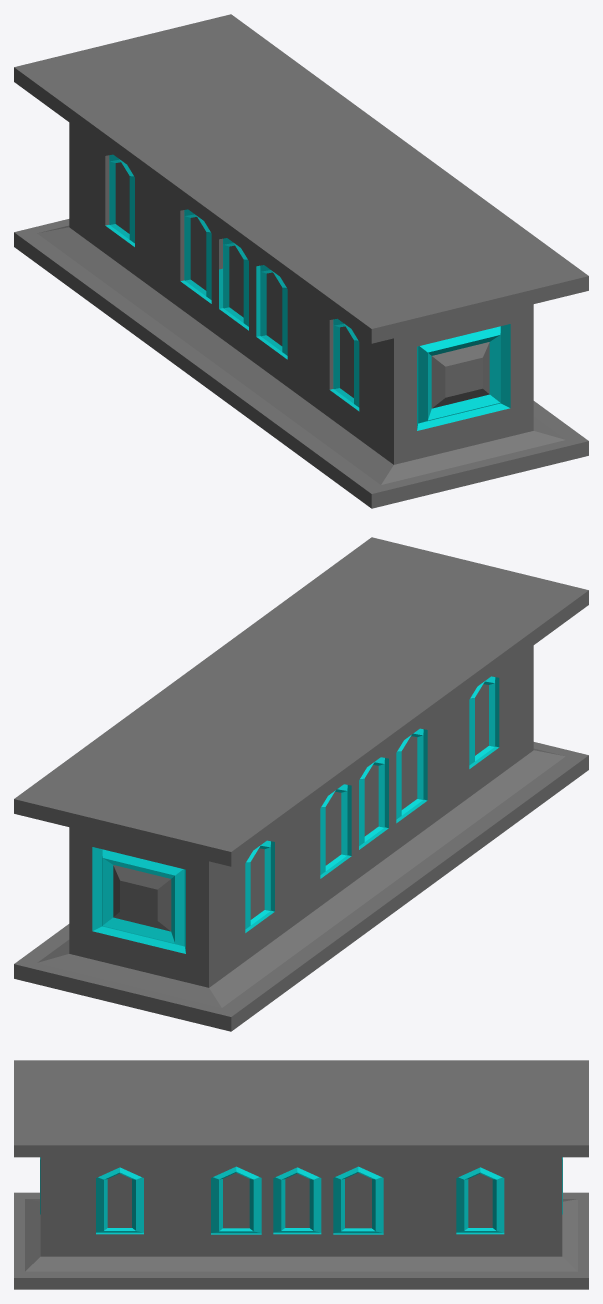
Rendered from altar.fbx.
3 renders of one model, top to bottom at view 1: azimuth 30°, elevation 25°; view 2: azimuth 150°, elevation 25°; view 3: azimuth 270°, elevation 25°, orthographic. The views are drawn at different scales.
Parts seen in each view (by area): view 1: Altar; view 2: Altar; view 3: Altar.
Part boxes in pixels (bbox=[...]): Altar: bbox=[14, 14, 588, 508]; Altar: bbox=[14, 537, 588, 1031]; Altar: bbox=[14, 1060, 588, 1289].
Bounding box in the file's own units: 679 × 537 × 1936.
